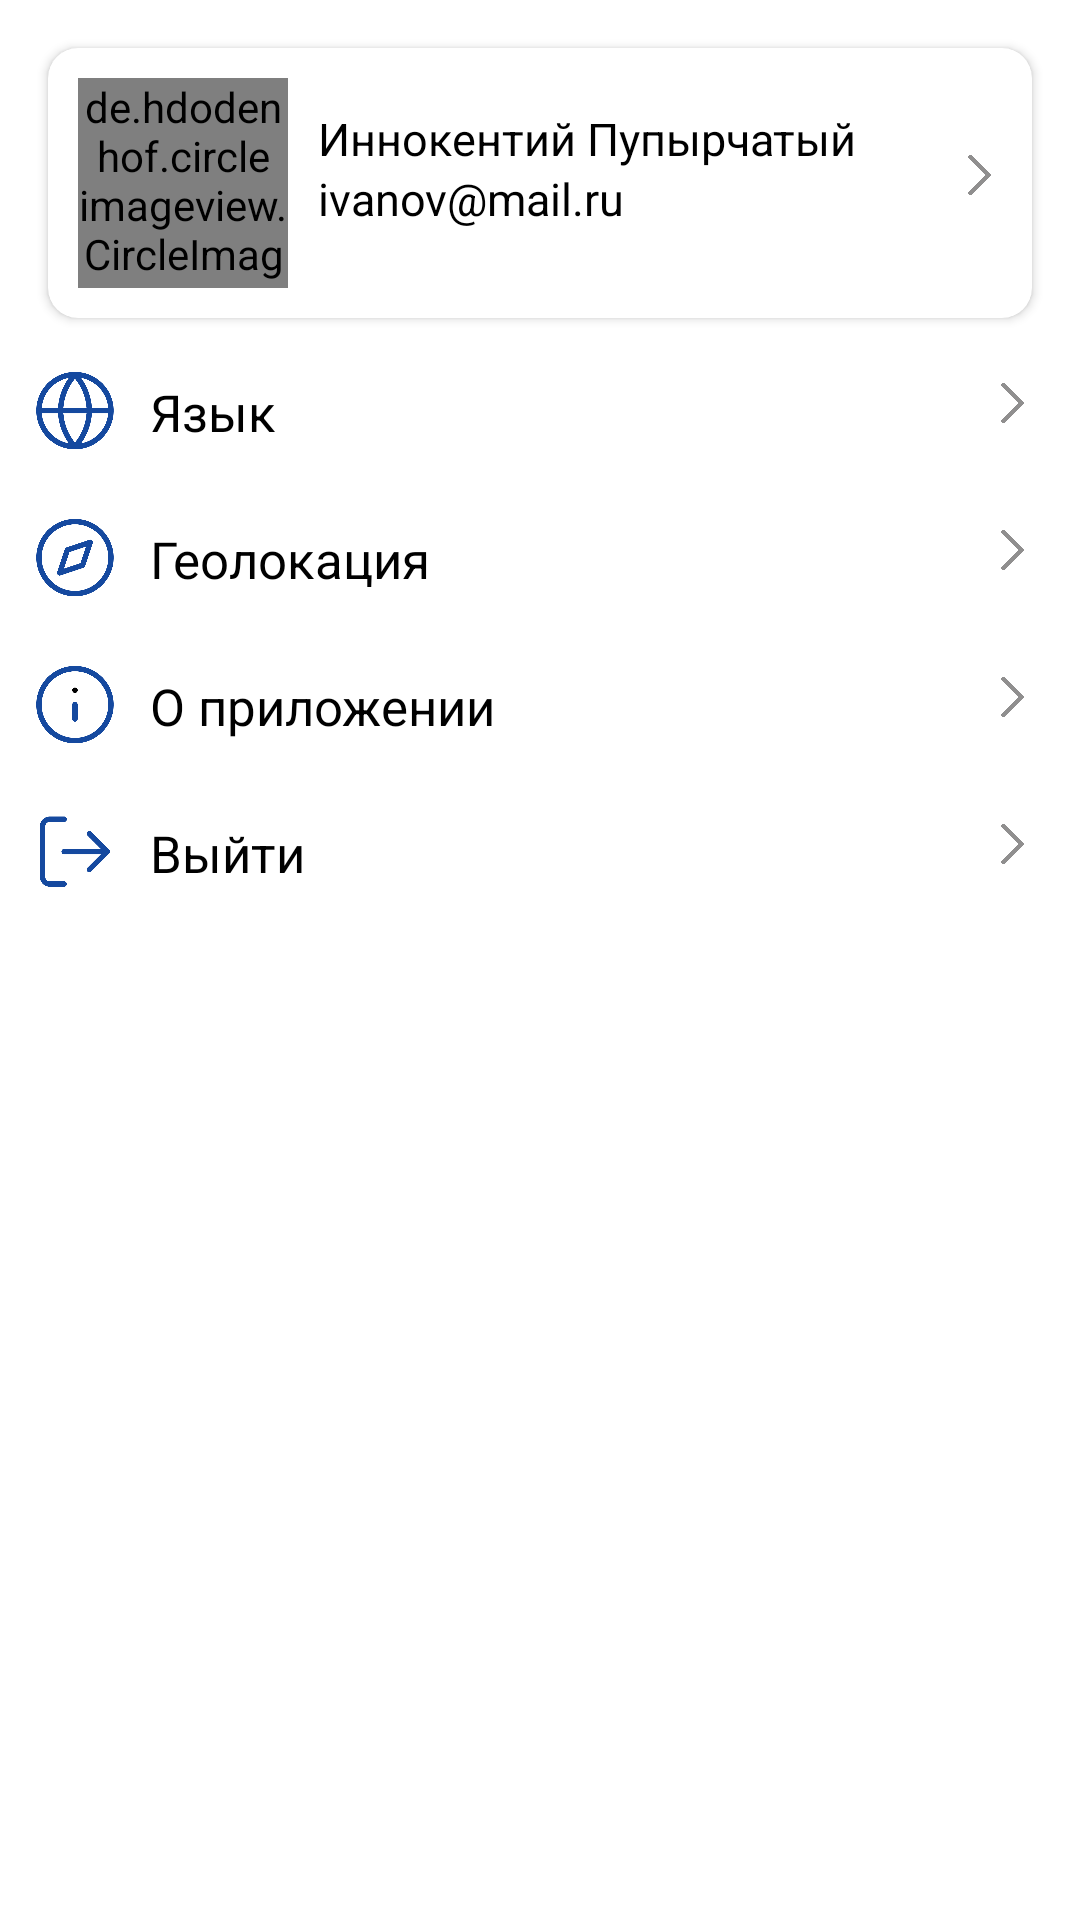

Named icons in this screenshot (1080px×1920px) and their centers, (x=x, y=y):
compass: (x=75, y=557)
globe: (x=75, y=410)
log out: (x=75, y=851)
